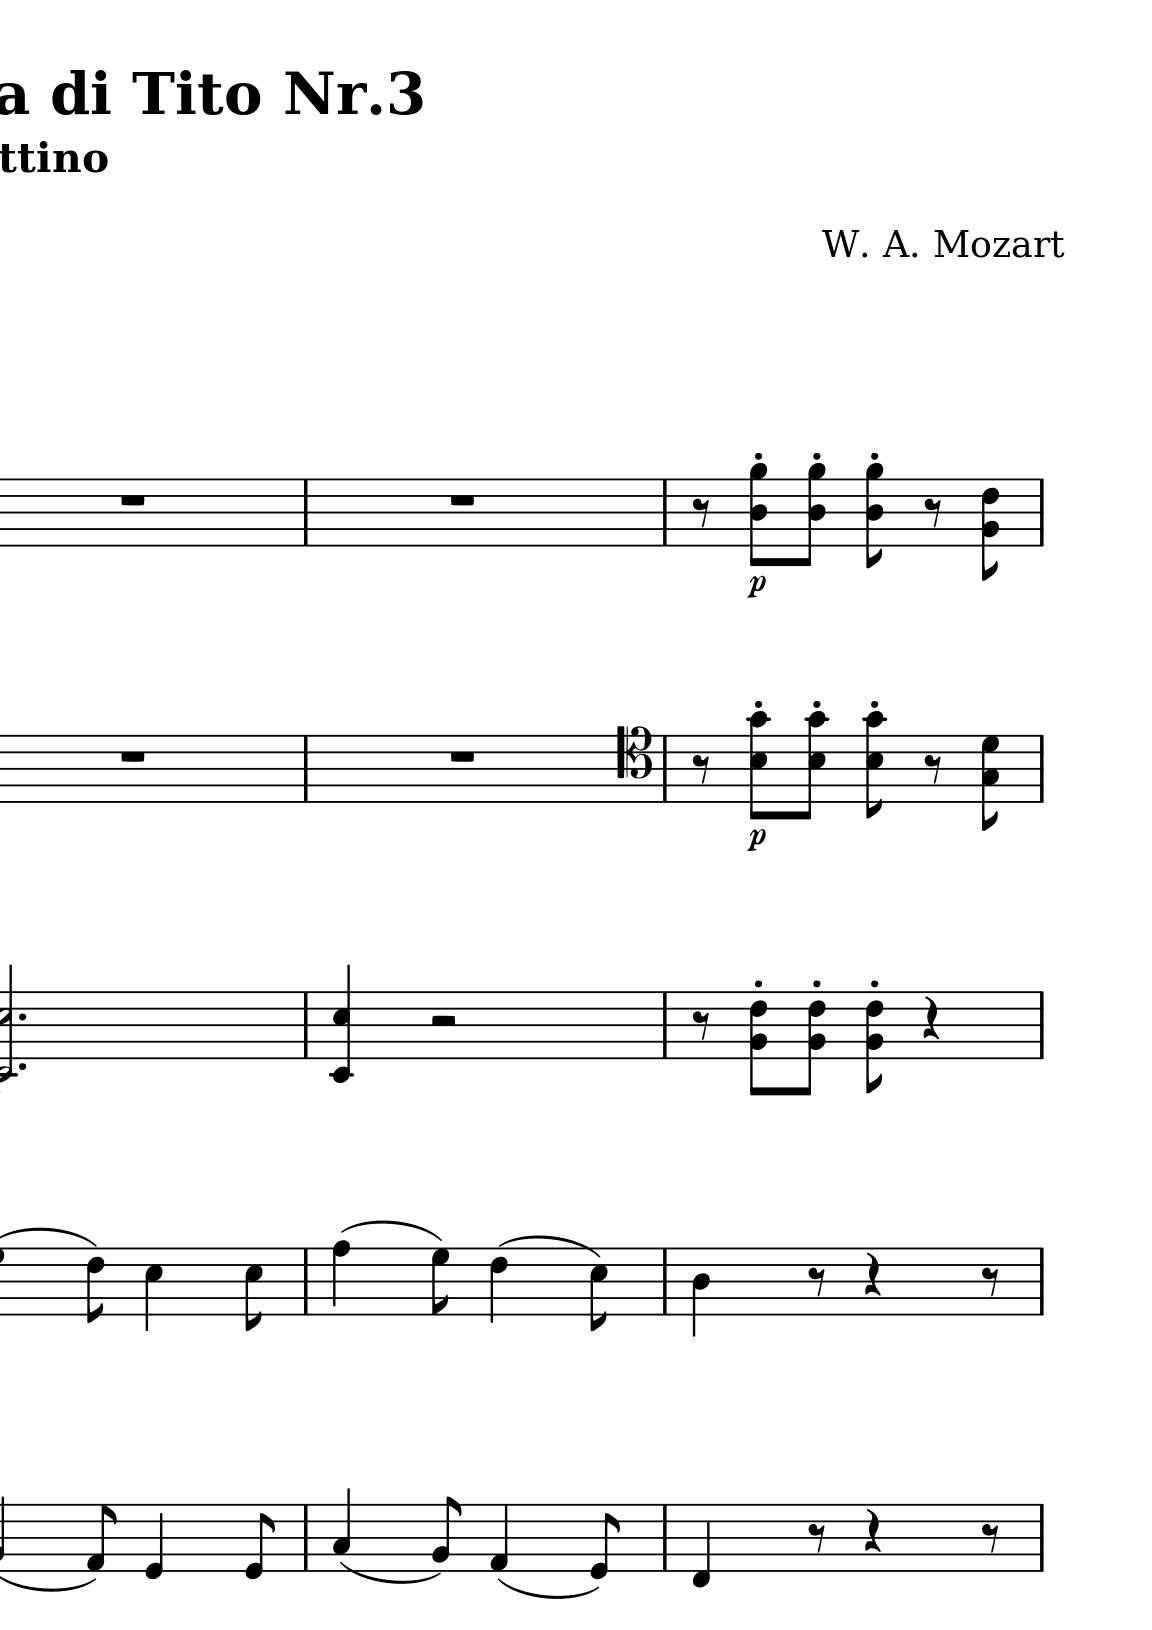4_-1: (689, 1502, 711, 1590)
4_-2_5: (325, 965, 355, 1083)
4_0: (141, 1502, 165, 1581)
4_1: (486, 1502, 509, 1573)
4_3: (330, 1488, 352, 1571)
4_4: (689, 1245, 712, 1338)
4_5: (142, 1245, 163, 1335)
4_6: (487, 1246, 509, 1326)
4_8: (328, 1239, 350, 1318)
8_0: (242, 1503, 274, 1581), (588, 1502, 620, 1580)
8_1: (84, 1502, 117, 1574)
8_2: (429, 1494, 460, 1571)
8_2_6: (800, 989, 827, 1098), (865, 989, 886, 1095), (980, 476, 1001, 581), (748, 989, 768, 1098)
8_3_7: (980, 733, 1002, 829)
8_4_9: (800, 462, 829, 568), (864, 462, 885, 570), (749, 461, 768, 567)
8_5: (243, 1245, 263, 1332), (588, 1246, 608, 1333)
8_5_10: (798, 710, 830, 820), (860, 710, 888, 817), (746, 710, 772, 821)
8_6: (84, 1246, 105, 1326)
8_7: (429, 1246, 450, 1318)
Rests1: (116, 746, 148, 766), (445, 746, 478, 766), (116, 490, 150, 508), (445, 490, 478, 508)
Rests2: (426, 1013, 459, 1031)
Rests4: (920, 994, 941, 1041), (862, 1251, 881, 1299), (862, 1507, 881, 1554)
Rests8: (689, 751, 713, 788), (921, 751, 945, 786), (921, 496, 946, 528), (979, 1522, 1002, 1555), (689, 496, 712, 530), (689, 1009, 712, 1043), (979, 1265, 1001, 1299), (805, 1522, 828, 1555), (805, 1265, 827, 1299)
Single_barline: (295, 479, 314, 547), (656, 479, 673, 546), (1032, 735, 1050, 803), (297, 992, 314, 1059), (656, 992, 673, 1058), (297, 1247, 314, 1313), (1034, 991, 1050, 1059), (297, 735, 313, 803), (297, 1505, 313, 1570), (1034, 1247, 1049, 1315), (1034, 479, 1049, 545), (657, 736, 672, 803), (1034, 1505, 1049, 1571), (657, 1249, 672, 1313), (657, 1505, 672, 1570)
Slur: (340, 1218, 441, 1244), (492, 1576, 598, 1601), (337, 1561, 438, 1586), (496, 1235, 600, 1259), (1, 1226, 96, 1249), (1, 1575, 98, 1594)
Tensor_Cclef: (613, 723, 653, 804)
dot: (16, 1009, 27, 1023), (16, 1060, 27, 1072)
p: (743, 572, 768, 603), (744, 826, 768, 854)
